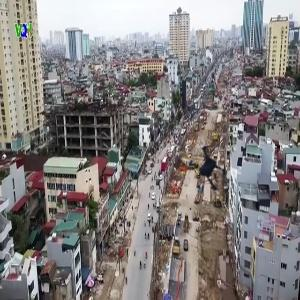drone: (171, 136, 236, 201)
